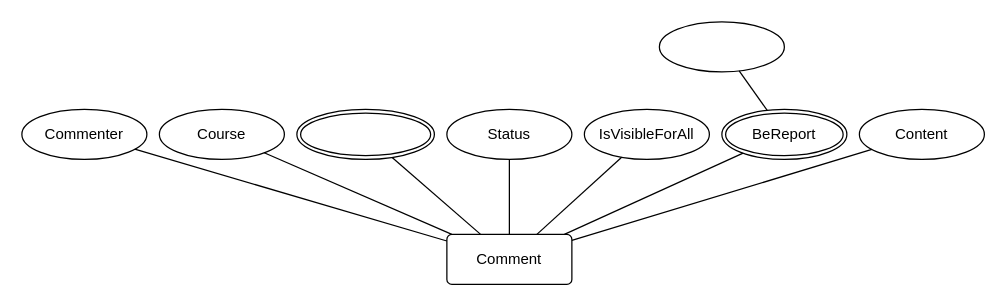
The diagram is 1006 pixels wide and 306 high, and some of its shapes have lost their labels. The shapes that lost their labels are listed below. From the top down, each one's centre as x and y in pixels, then its label:
At pixel 721 46: "User".
At pixel 365 133: "ReplyComment".
